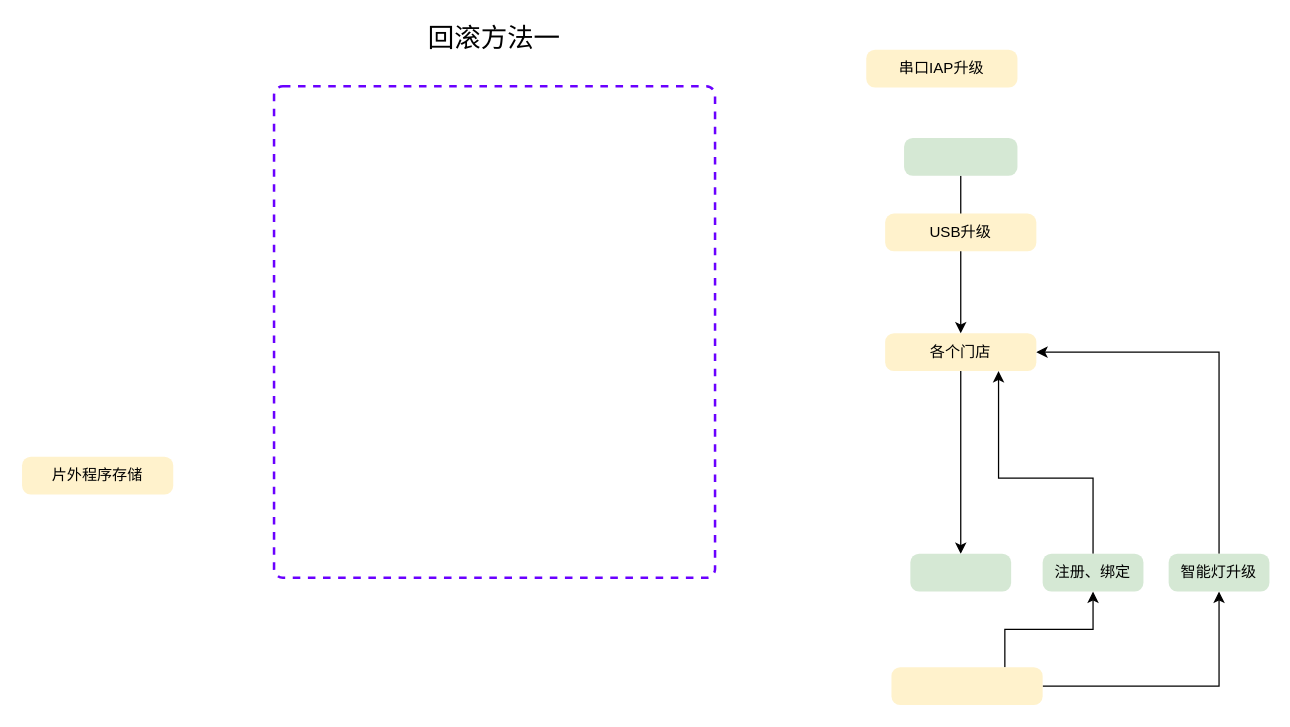
The diagram is 1290 pixels wide and 727 high, and some of its shapes have lost their labels. The shapes that lost their labels are listed below. From the top down, each one's centre as x and y in pixels, then its label:
the point at 960,156: 安装、调试
the point at 960,572: 问题灯退换
the point at 966,685: 泠琪
